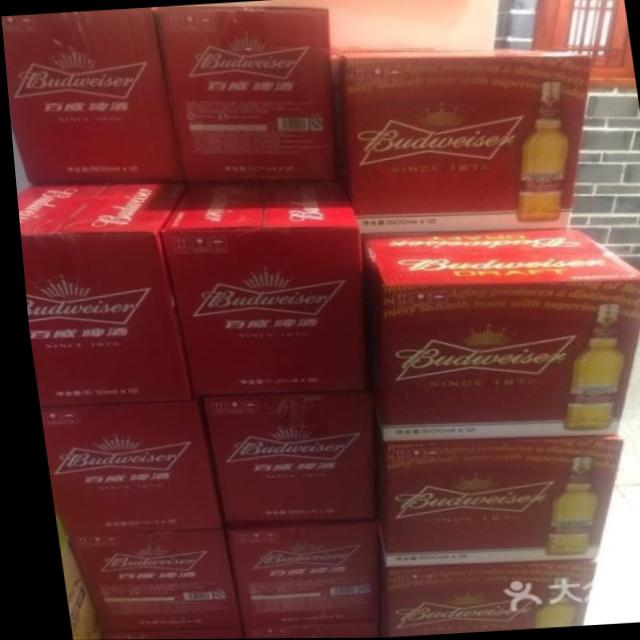box: (357, 228, 640, 442), (333, 48, 593, 236), (157, 181, 360, 398), (13, 179, 185, 406), (366, 433, 614, 567), (153, 5, 333, 184), (1, 7, 175, 186), (35, 398, 213, 540), (192, 392, 370, 527), (58, 527, 234, 640), (217, 525, 366, 639), (367, 564, 587, 638), (47, 513, 91, 640)
